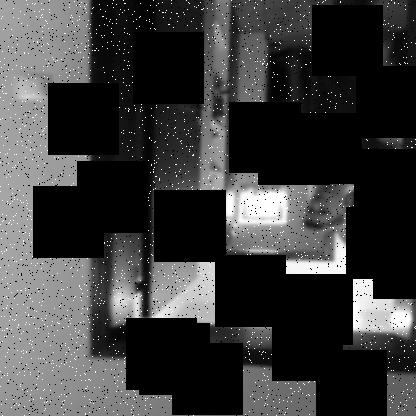Porte: (89, 1, 416, 377)
